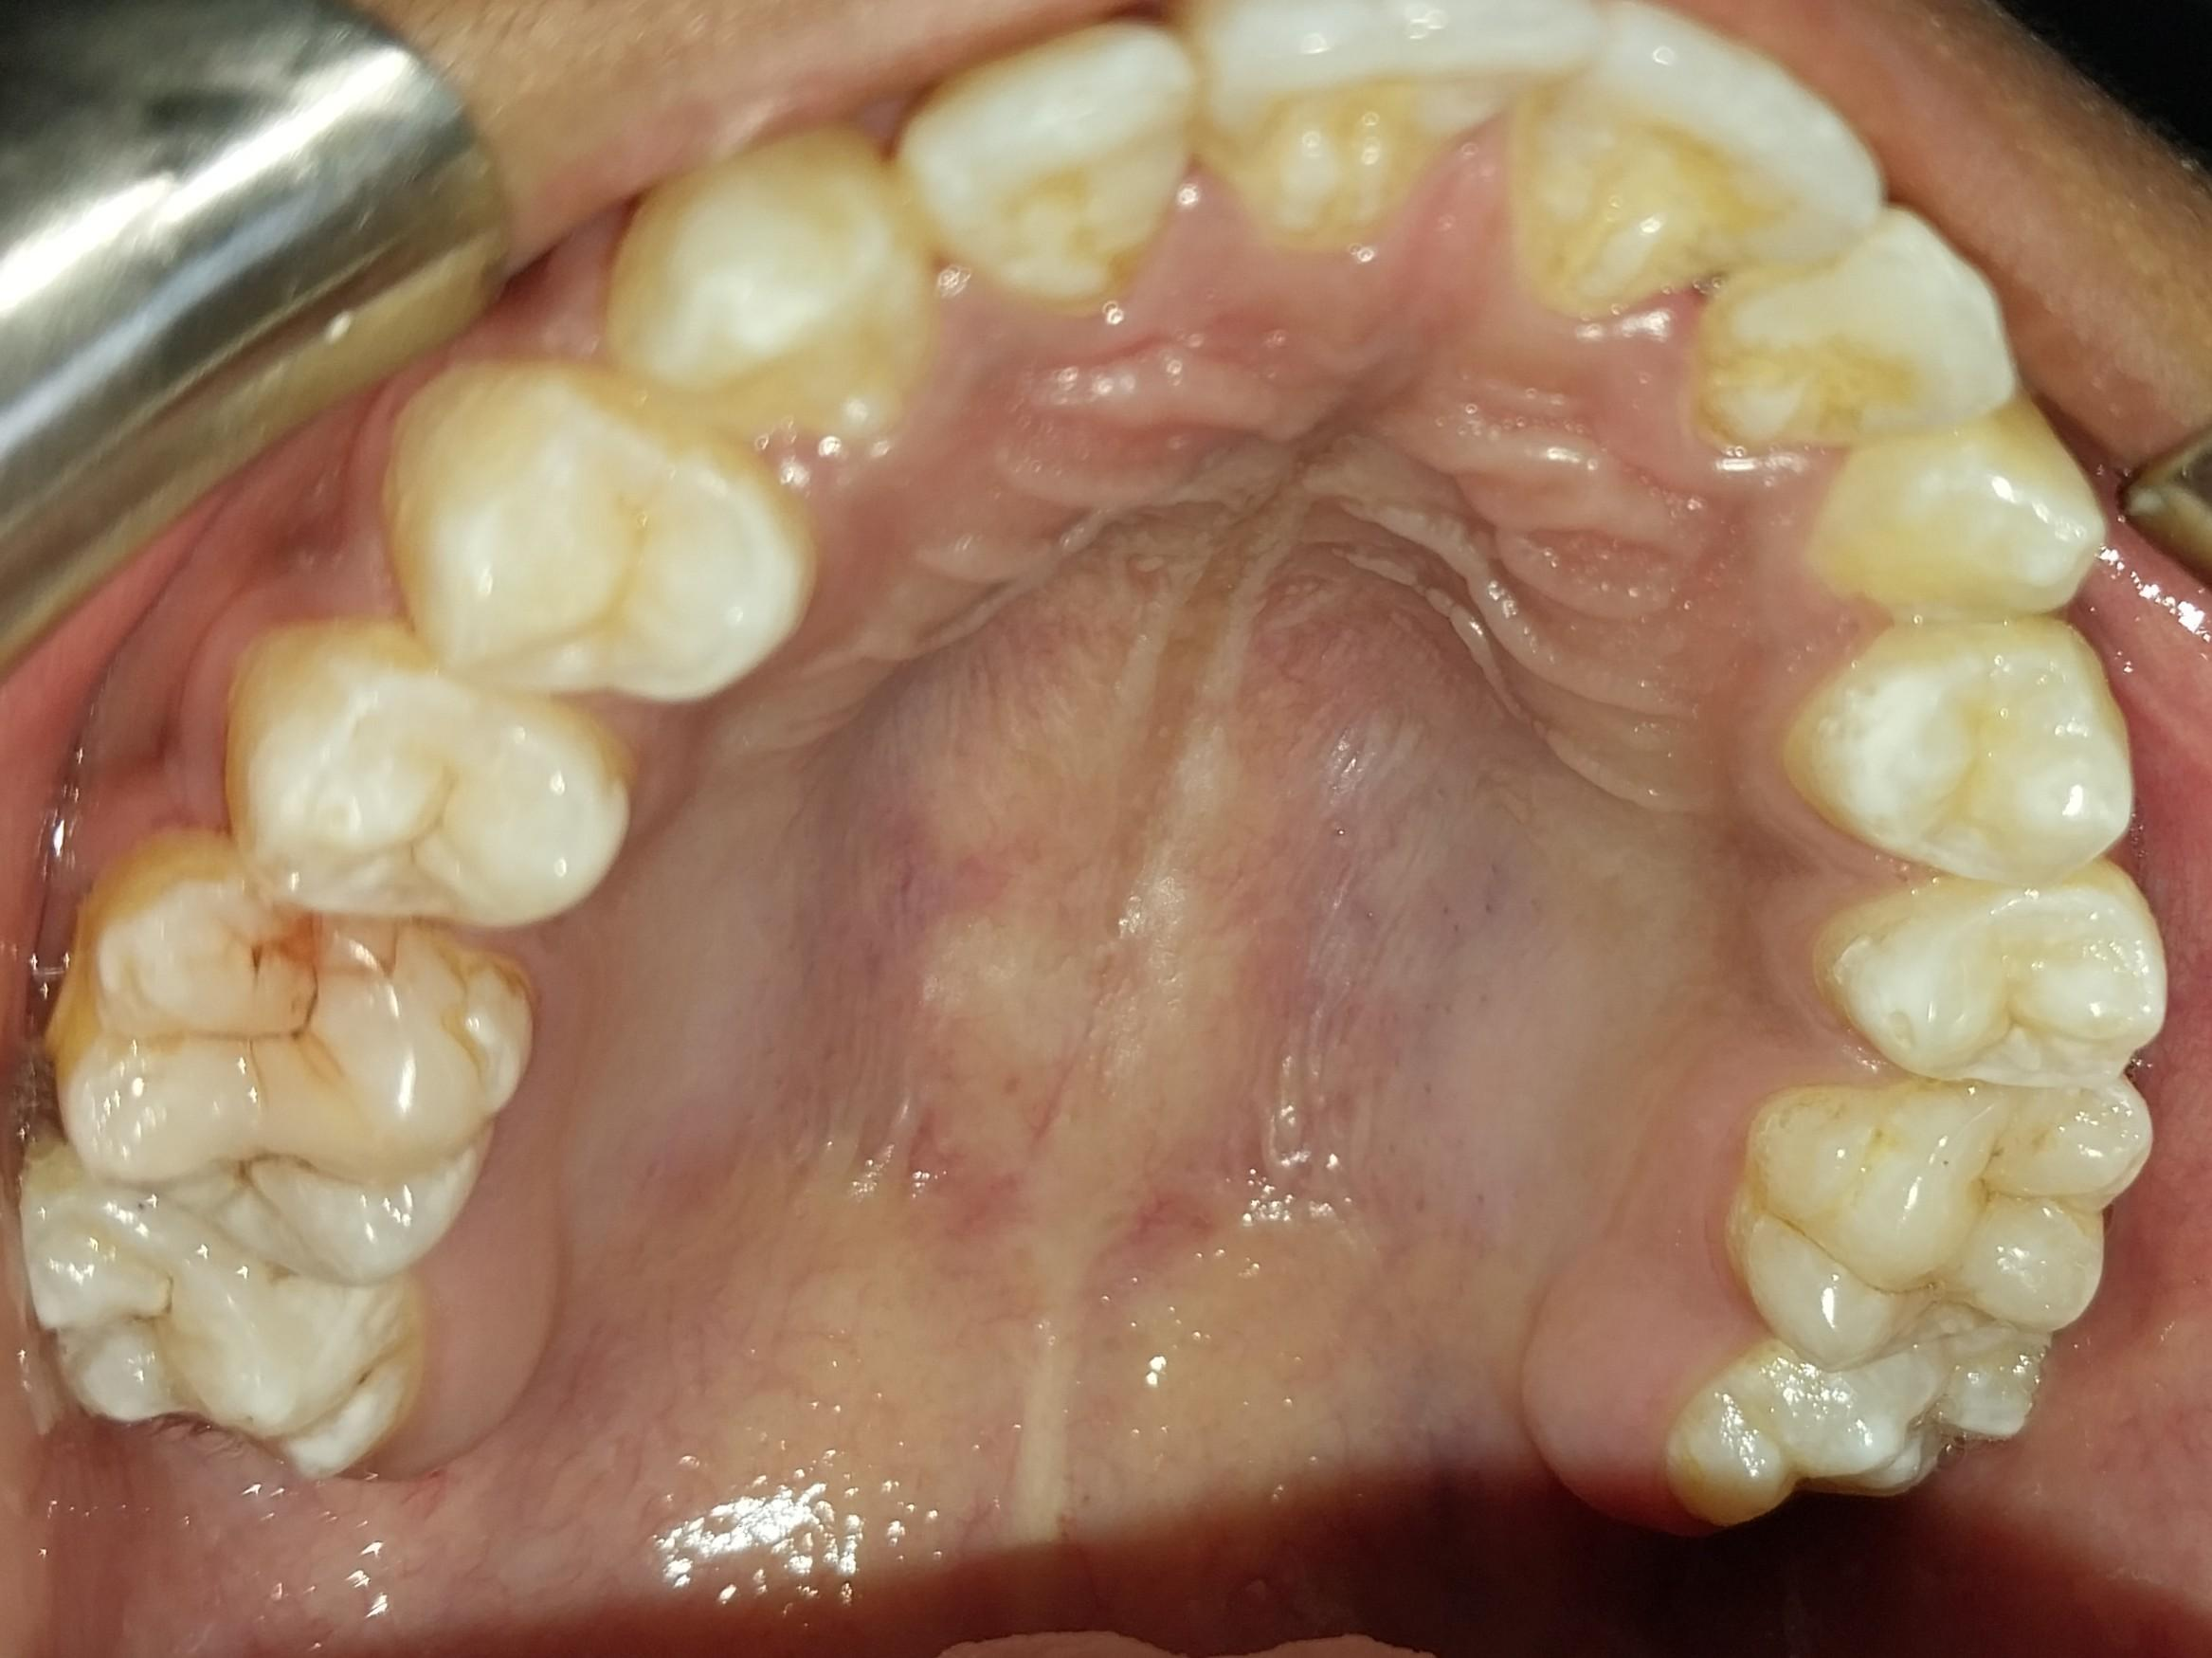D: (73, 857, 522, 1280)
